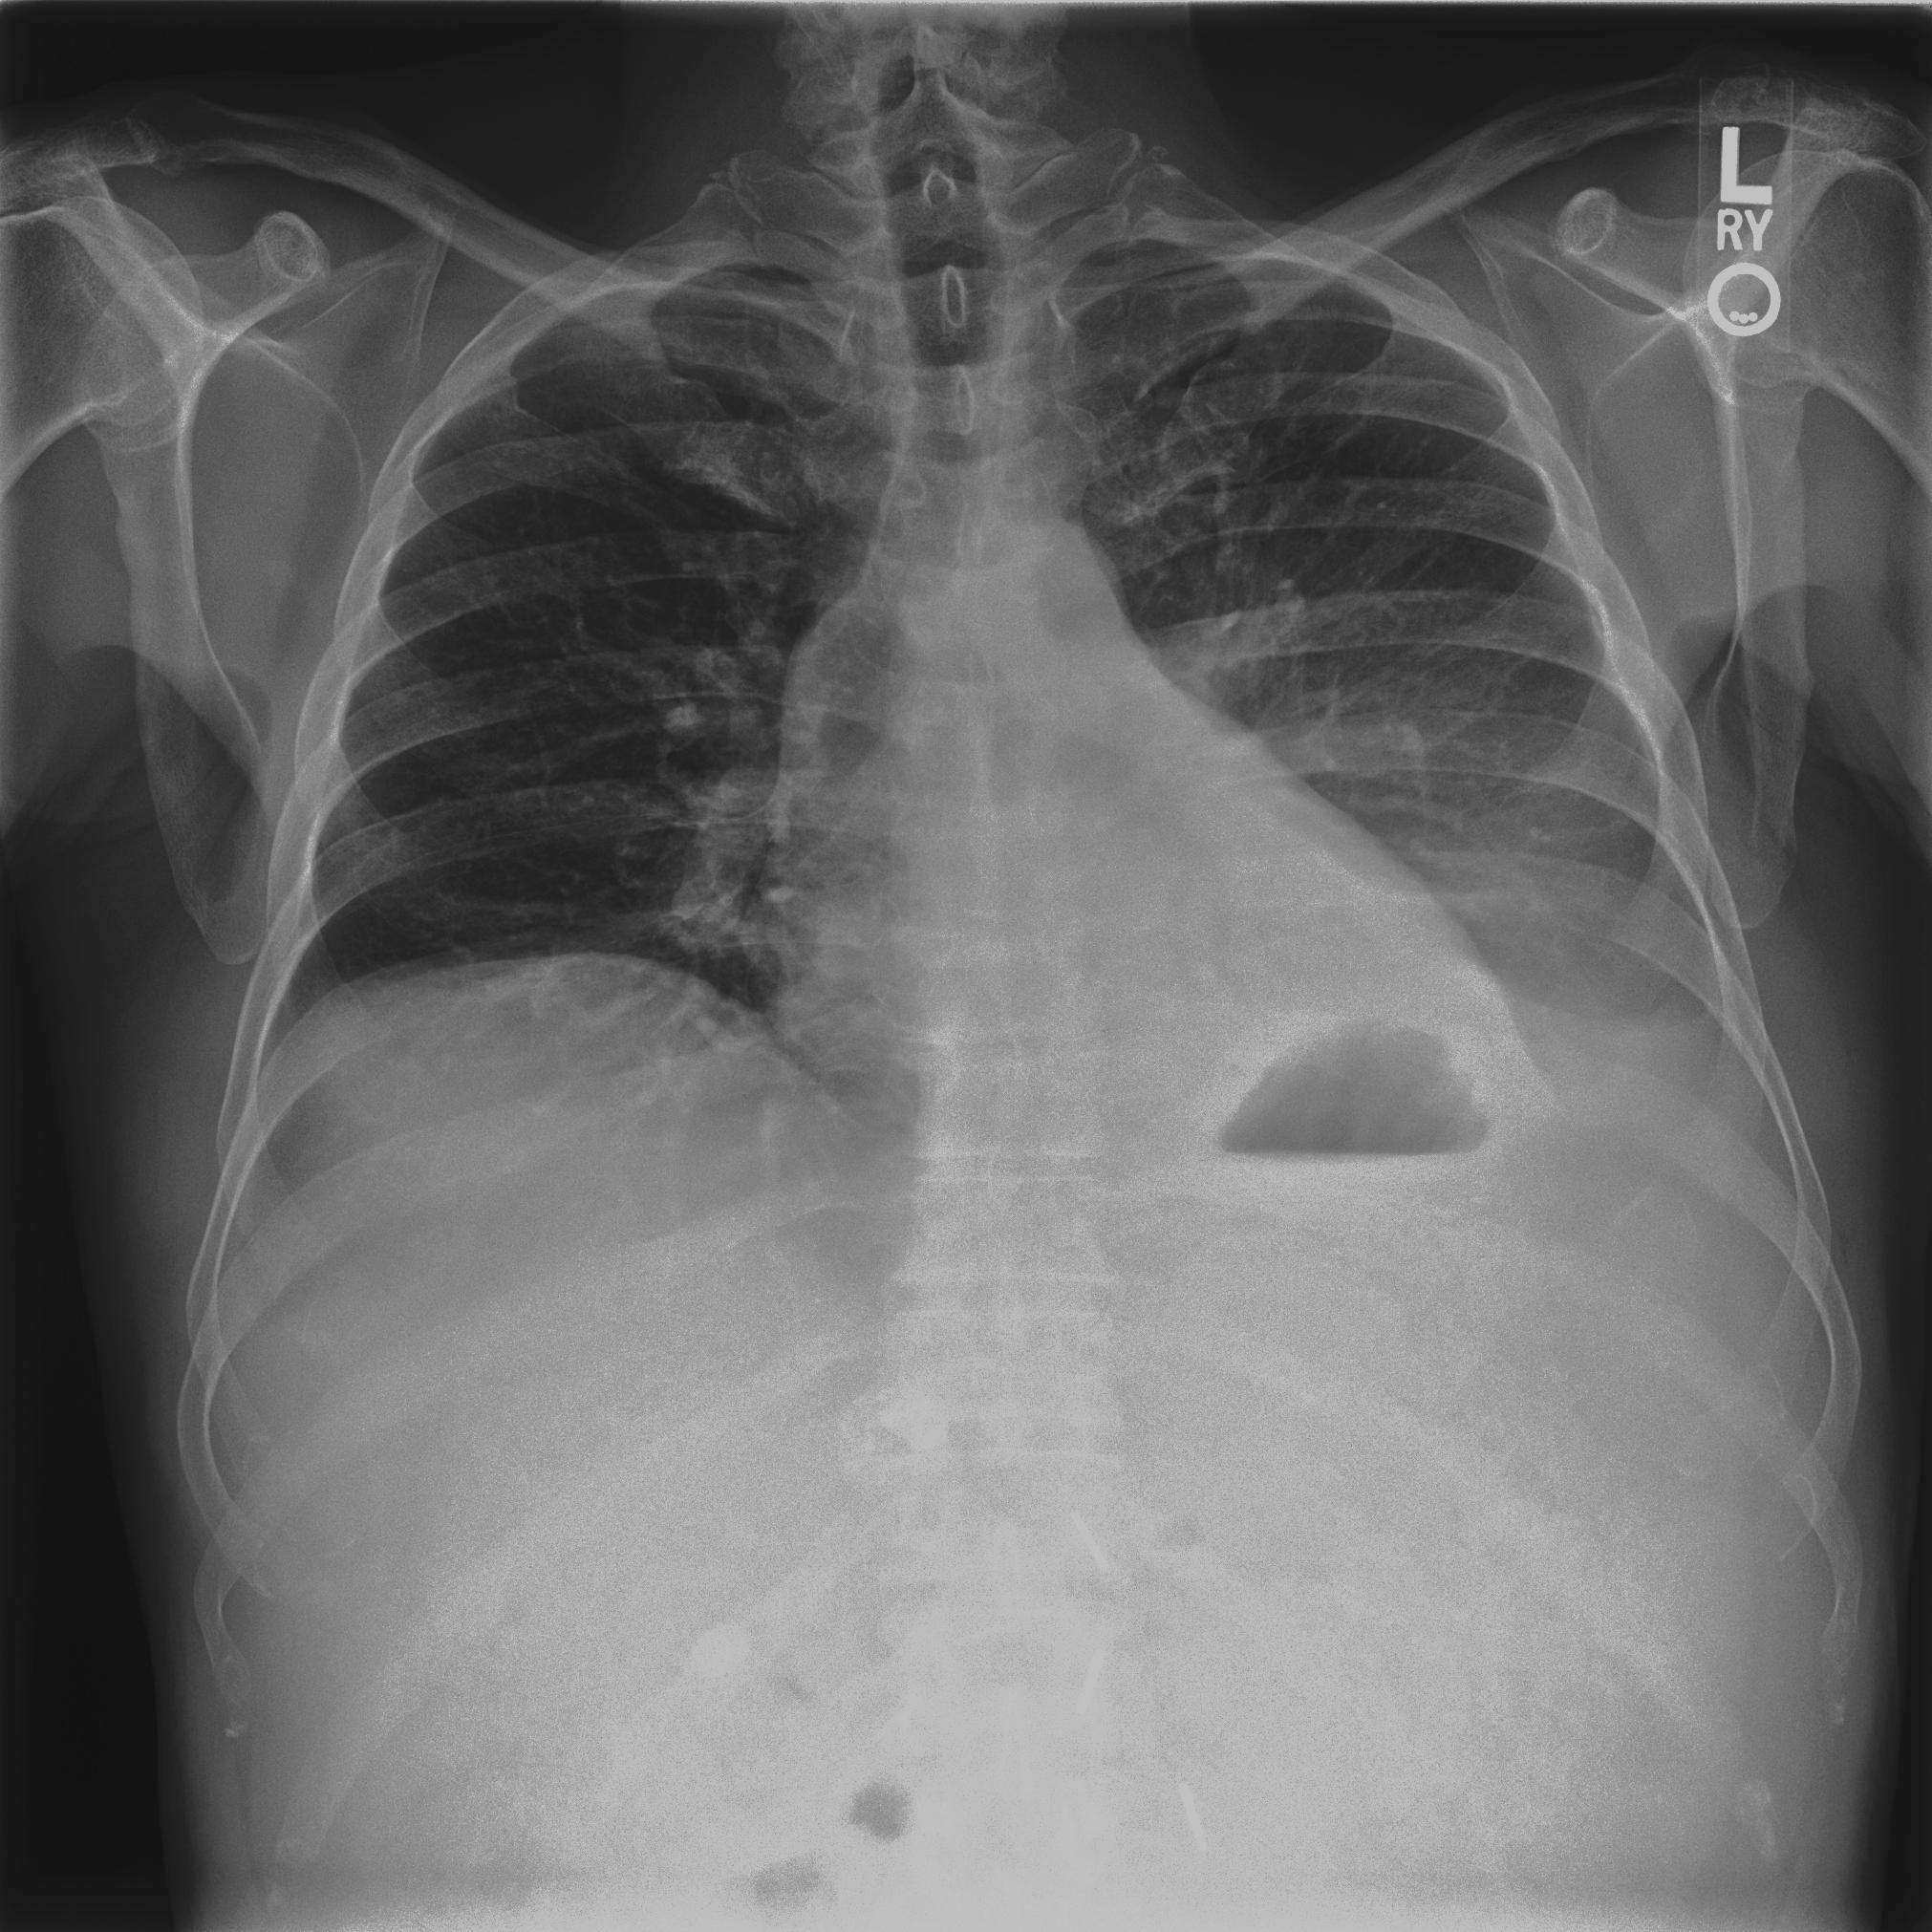Pleural Effusion: (1447, 985, 1806, 1330)
